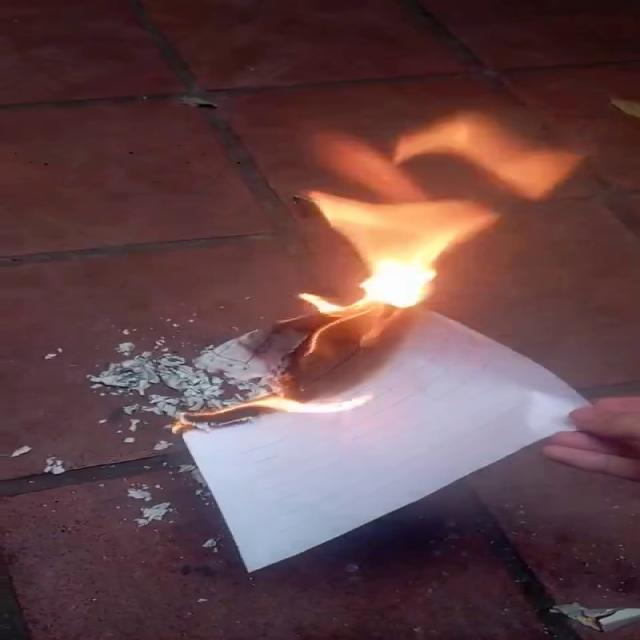Fire_Dangerous: (247, 102, 597, 353), (168, 389, 374, 422)
